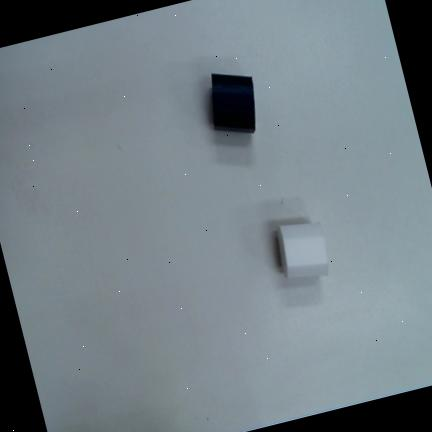Prisma_hexagonal: (277, 223, 328, 277), (211, 73, 255, 133)
